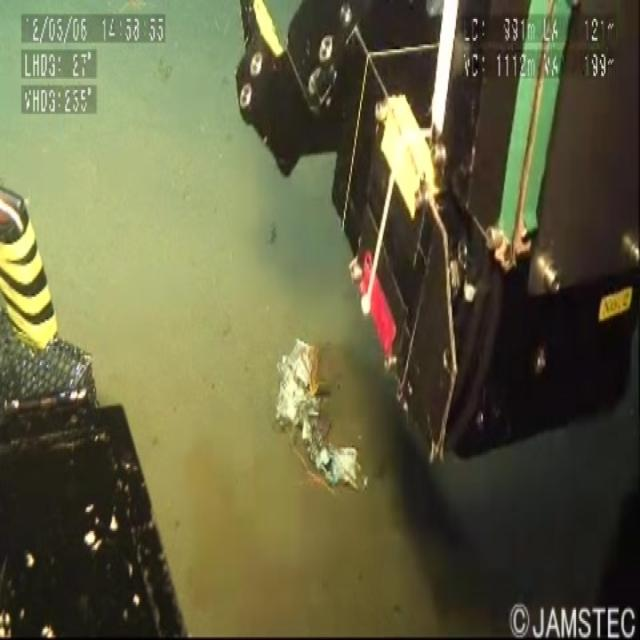Litter: (258, 337, 367, 516)
